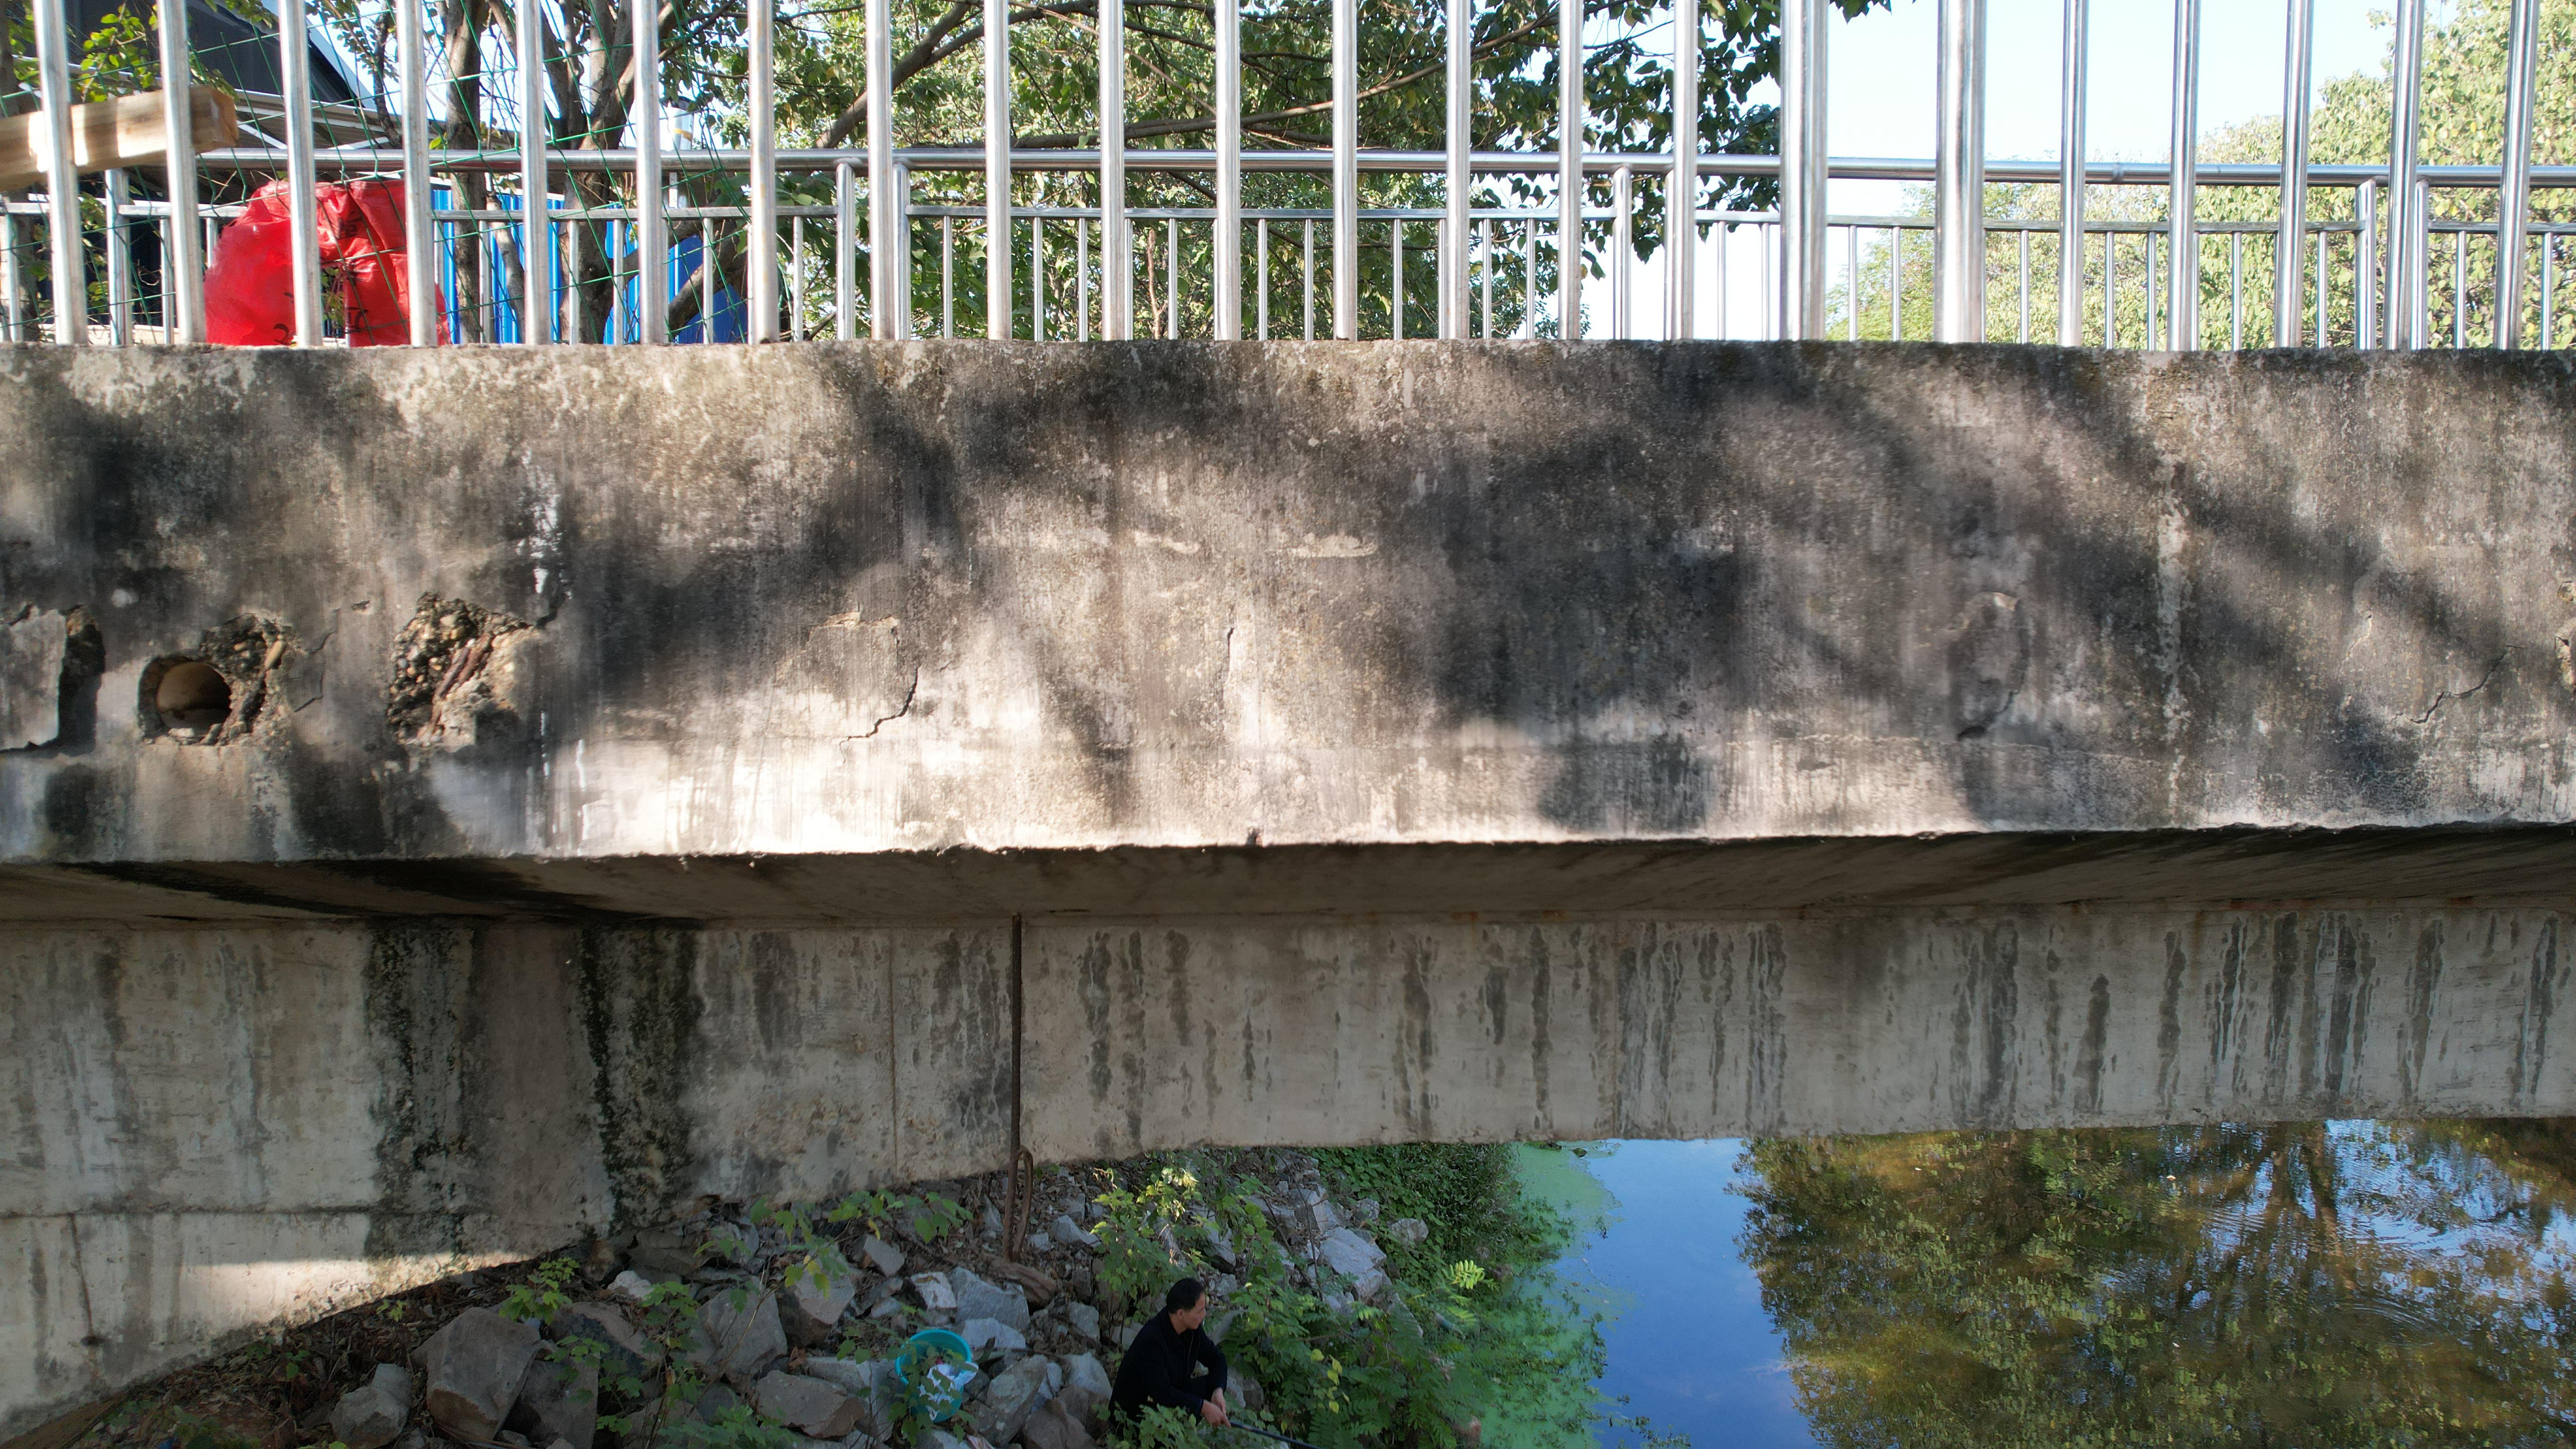rebar: (221, 642, 281, 736), (425, 644, 471, 743), (456, 633, 494, 686)
separation: (2337, 545, 2528, 727), (1040, 610, 1238, 752), (768, 607, 920, 763), (0, 603, 104, 755), (1934, 589, 2029, 747), (471, 552, 557, 625), (280, 617, 336, 715), (2553, 617, 2576, 694), (143, 911, 200, 925), (1046, 904, 1088, 916)
spall: (384, 591, 531, 750), (198, 612, 297, 752), (60, 605, 104, 706)
